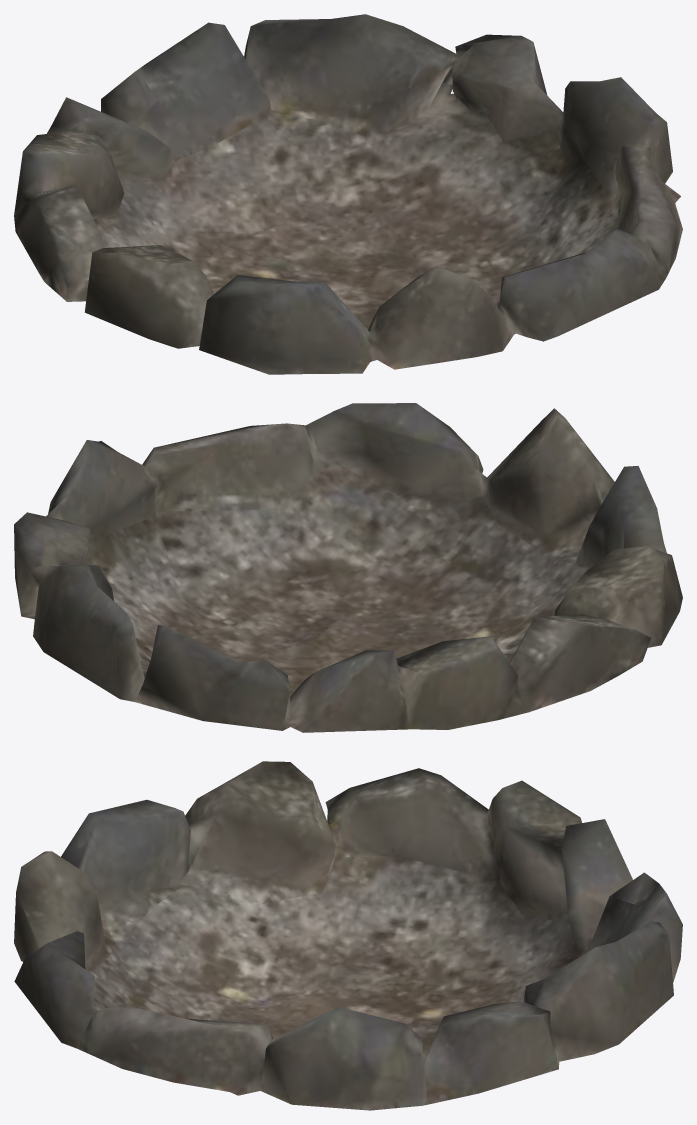
File: firepit.glb
3 views of the same model, one above another, from view 1: azimuth 30°, elevation 25°; view 2: azimuth 150°, elevation 25°; view 3: azimuth 270°, elevation 25° (orthographic).
Parts seen in each view (by area): view 1: stone_fire_pit; view 2: stone_fire_pit; view 3: stone_fire_pit.
Boxes of the visible parts, bbox=[...] form: stone_fire_pit: bbox=[14, 14, 682, 374]; stone_fire_pit: bbox=[14, 403, 682, 732]; stone_fire_pit: bbox=[14, 761, 682, 1110].
Size of the model in its own units: 1.44 by 0.3812 by 1.43.
Materials: 1 (1 with a texture image).
